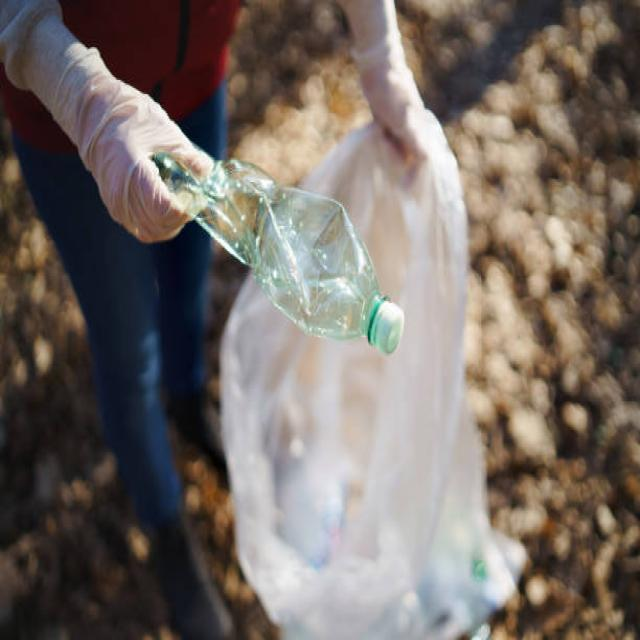plastic: (179, 152, 415, 356)
trash: (233, 108, 525, 640)
